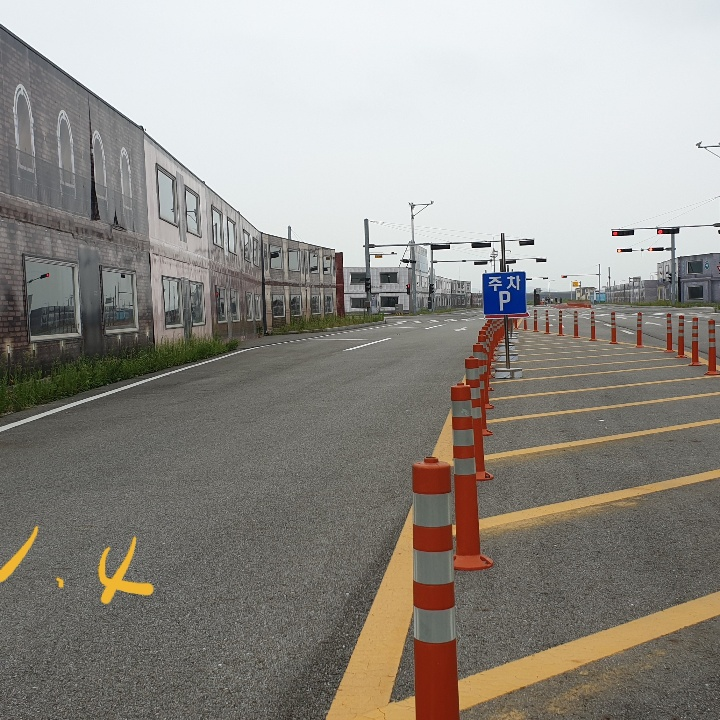parking: (492, 285, 515, 313)
